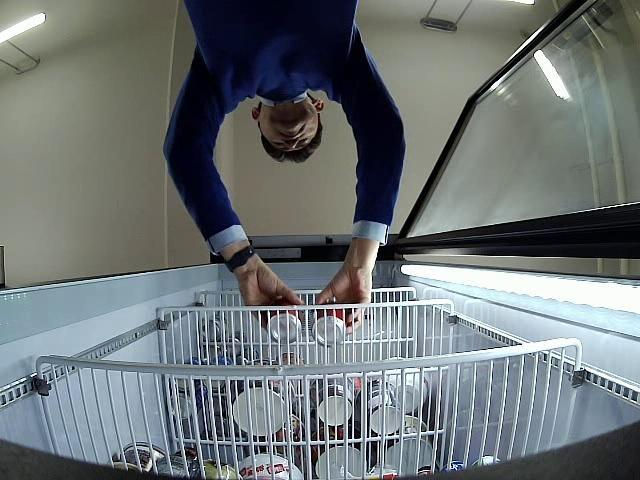11_cocaColaZero: (266, 300, 303, 345), (311, 302, 347, 348)
